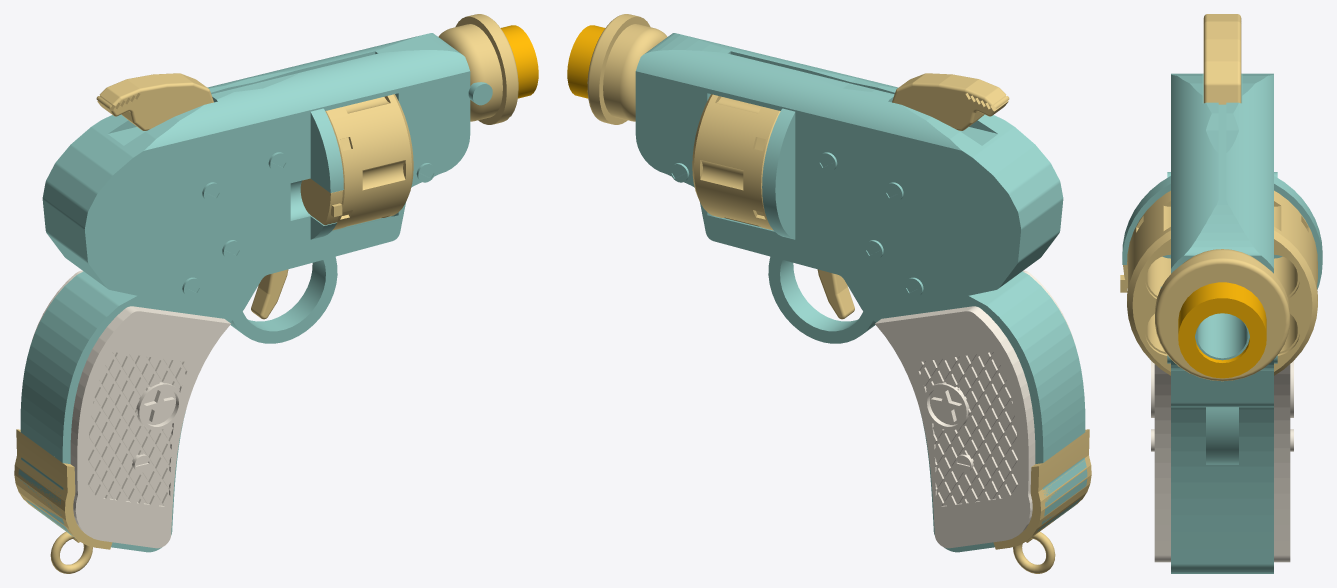
The picture shows the model from 3 angles, left to right: view 1: azimuth 30°, elevation 25°; view 2: azimuth 150°, elevation 25°; view 3: azimuth 270°, elevation 25°; orthographic projection. The views are drawn at different scales.
Parts seen in each view (by area): view 1: telaio, =>[0:1:1:18], =>[0:1:1:3], =>[0:1:1:12], =>[0:1:1:21], =>[0:1:1:27], =>[0:1:1:30], sportello, =>[0:1:1:25], cordino; view 2: telaio, guancia_sx, =>[0:1:1:3], =>[0:1:1:12], =>[0:1:1:21], =>[0:1:1:27], =>[0:1:1:30], =>[0:1:1:25], cordino; view 3: telaio, =>[0:1:1:3], =>[0:1:1:12], =>[0:1:1:30], guancia_sx, =>[0:1:1:18], =>[0:1:1:21], =>[0:1:1:10].
Part boxes in pixels (x1,y1,x2,y2): telaio: [18, 33, 470, 552]; =>[0:1:1:18]: [70, 306, 230, 548]; =>[0:1:1:3]: [325, 94, 413, 230]; =>[0:1:1:12]: [438, 14, 518, 124]; =>[0:1:1:21]: [97, 73, 213, 130]; =>[0:1:1:27]: [14, 429, 112, 549]; =>[0:1:1:30]: [501, 25, 538, 98]; sportello: [300, 178, 342, 225]; =>[0:1:1:25]: [251, 269, 288, 319]; cordino: [50, 532, 92, 573]; telaio: [635, 33, 1087, 552]; guancia_sx: [875, 306, 1035, 548]; =>[0:1:1:3]: [692, 94, 780, 230]; =>[0:1:1:12]: [587, 14, 667, 124]; =>[0:1:1:21]: [892, 73, 1008, 130]; =>[0:1:1:27]: [993, 429, 1091, 549]; =>[0:1:1:30]: [567, 25, 604, 98]; =>[0:1:1:25]: [817, 269, 854, 319]; cordino: [1013, 532, 1055, 573]; telaio: [1122, 73, 1322, 573]; =>[0:1:1:3]: [1127, 190, 1317, 375]; =>[0:1:1:12]: [1155, 249, 1289, 381]; =>[0:1:1:30]: [1178, 282, 1266, 378]; guancia_sx: [1274, 361, 1293, 562]; =>[0:1:1:18]: [1151, 361, 1170, 562]; =>[0:1:1:21]: [1203, 14, 1241, 104]; =>[0:1:1:10]: [1195, 313, 1249, 360].
Size of the model in its own units: 145 by 136 by 43.38.
